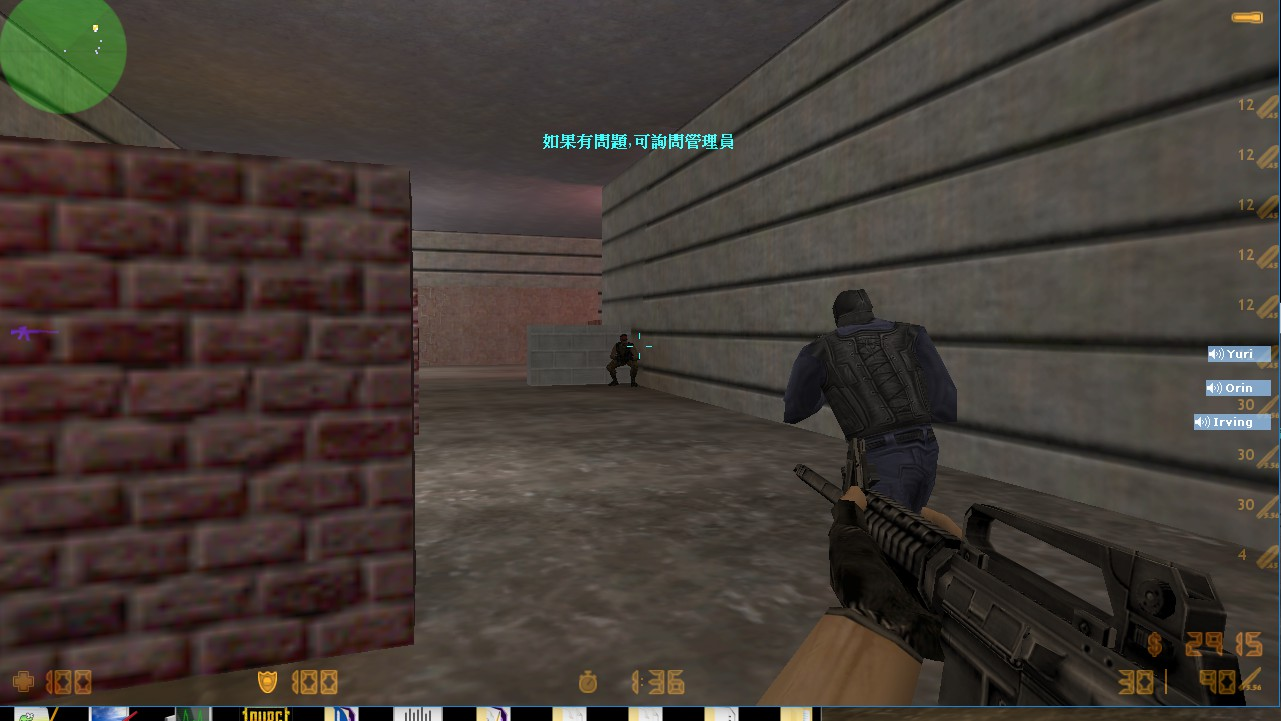person: (772, 278, 965, 543), (598, 327, 641, 388)
